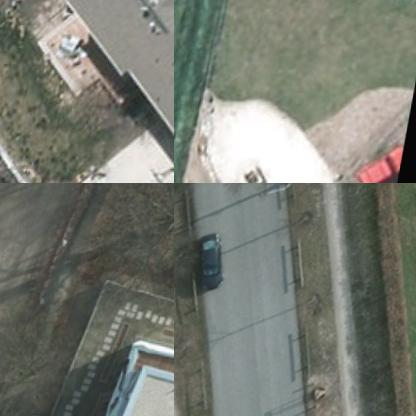car: (194, 237, 234, 294), (356, 145, 410, 182)
